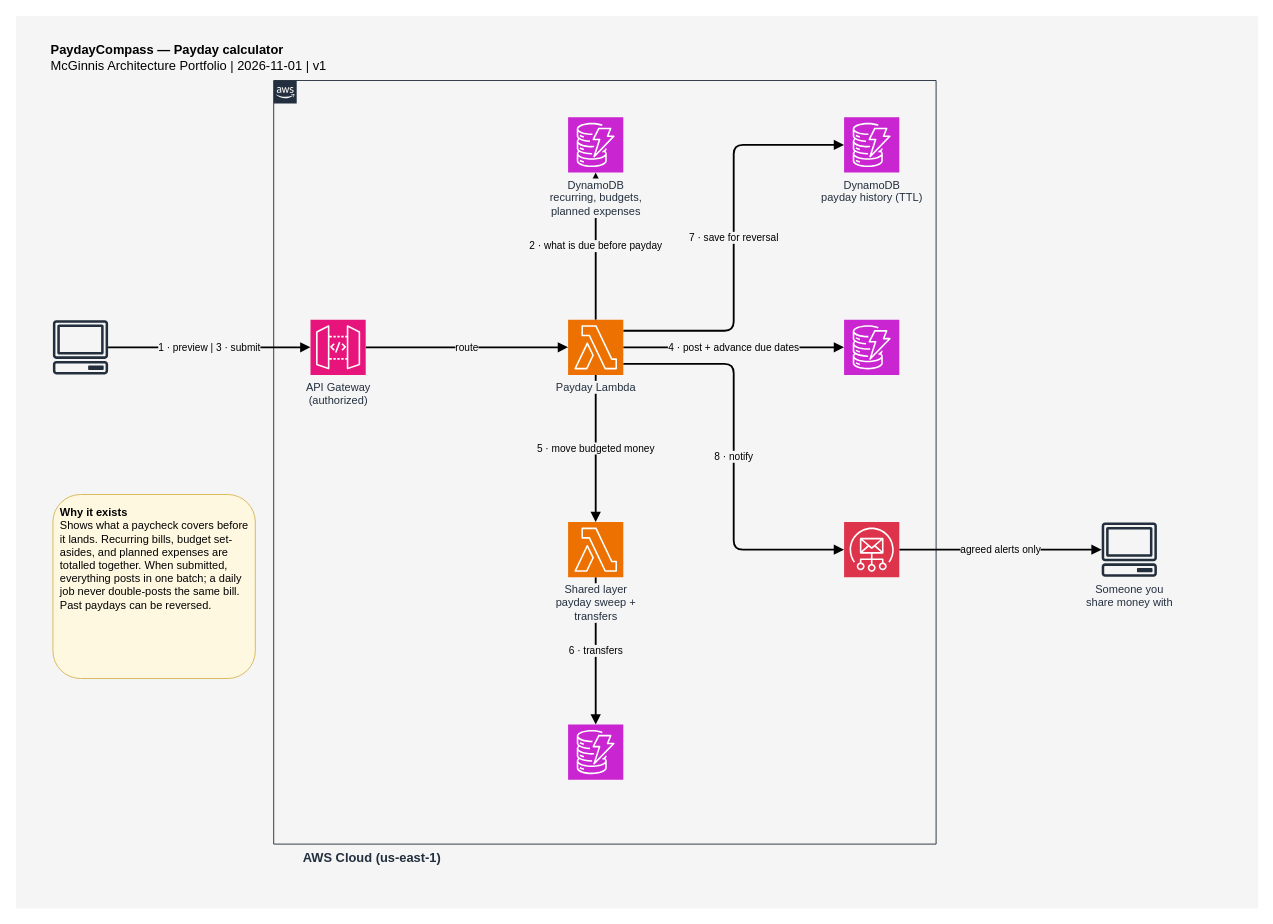
Some shapes in this 1273 by 924 pixel diagram are drawn without their labels. The shapes that lost their labels are listed below. From the top down, each one's box as (x1, y1, x2, y2) in pixels, then its label:
(52, 319, 108, 374): Customer
(843, 319, 899, 375): DynamoDB transactions + balances
(843, 521, 899, 577): Amazon SES alerts + review email
(567, 724, 623, 780): DynamoDB accounts + divisions
